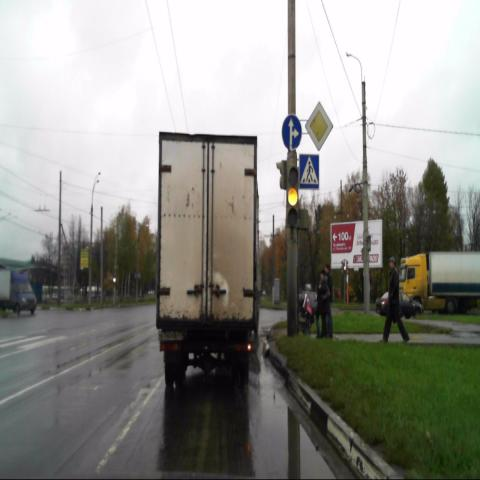4_1_4: (281, 114, 302, 150)
